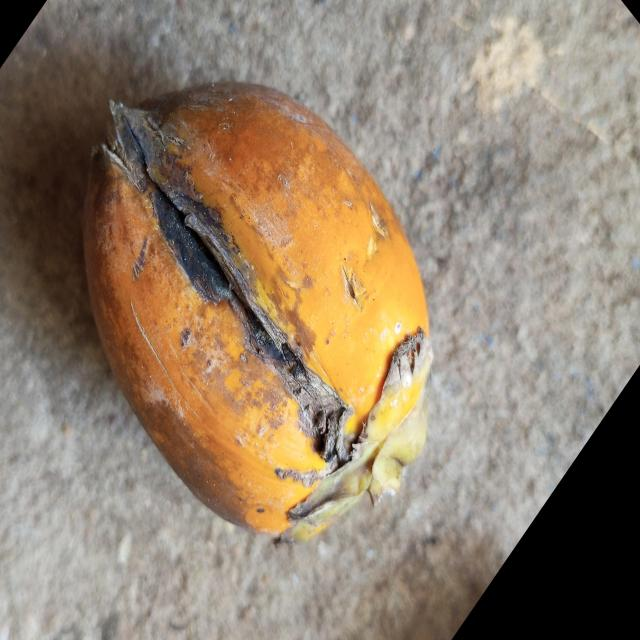damaged: (78, 83, 434, 546)
